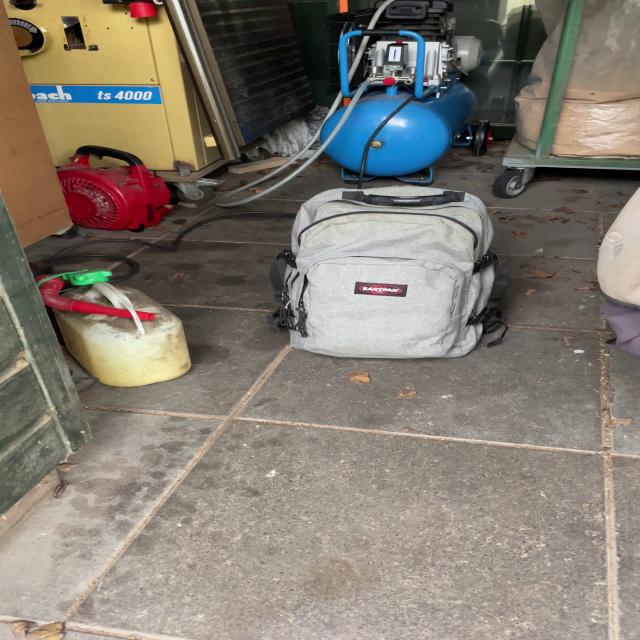backpack: (258, 177, 518, 367)
